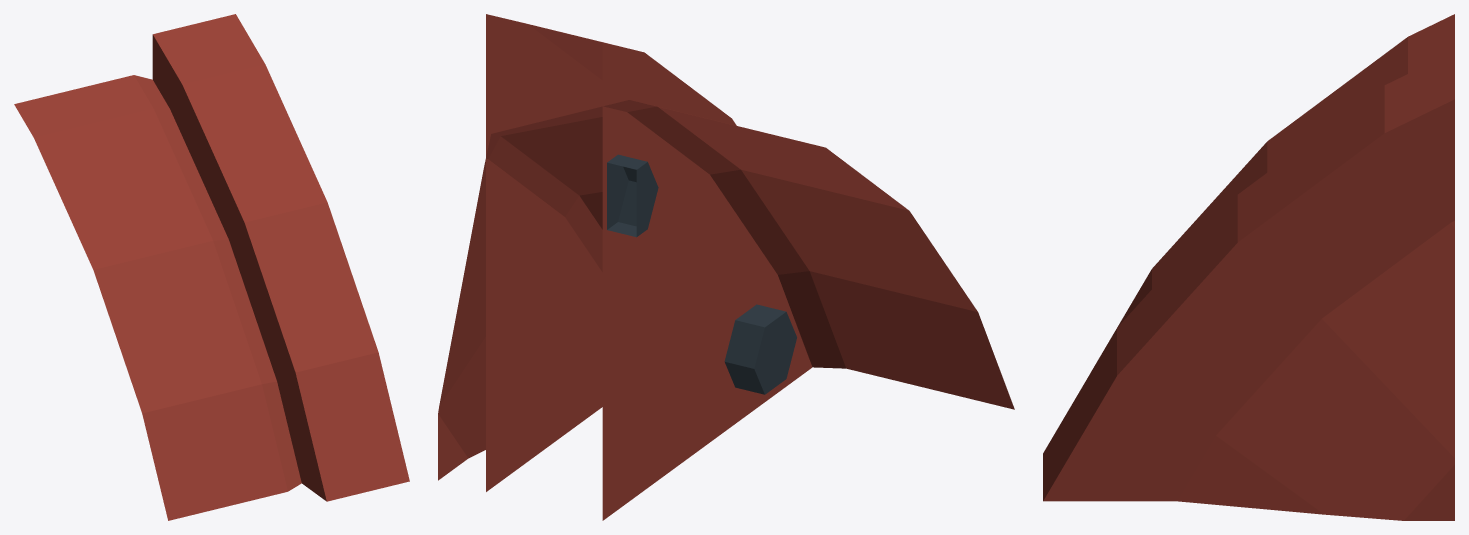
File: cell_75.obj
3 views of the same model, side by side, from view 1: azimuth 30°, elevation 25°; view 2: azimuth 150°, elevation 25°; view 3: azimuth 270°, elevation 25° (orthographic). The views are drawn at different scales.
Bounding box in the file's own units: 0.3725 × 0.4732 × 0.4392.
